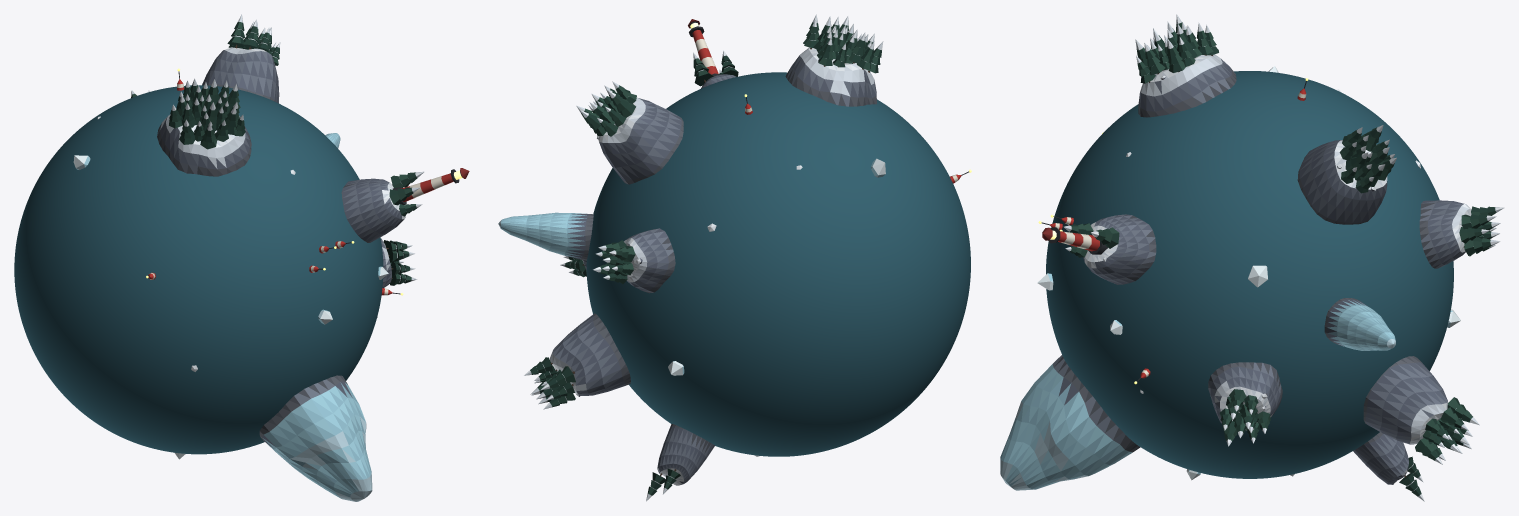
The model's file is snow.glb.
The picture shows the model from 3 angles, left to right: view 1: azimuth 30°, elevation 25°; view 2: azimuth 150°, elevation 25°; view 3: azimuth 270°, elevation 25°; orthographic projection. The views are drawn at different scales.
Visible parts, largest first — view 1: Water, Island_glacier, Island_firwood, Island_beacon, Island_drift, Lighthouse; view 2: Water, Island_drift, Island_ridge, Island_firwood, Island_floe, Island_spire, Island_hollow, Lighthouse; view 3: Water, Island_glacier, Island_ridge, Island_drift, Island_firwood, Island_beacon, Island_frostcap, Island_floe, Island_spire, Island_hollow, Lighthouse.
Part boxes in pixels (bbox=[...]): Water: bbox=[14, 85, 383, 454]; Island_glacier: bbox=[259, 375, 372, 501]; Island_firwood: bbox=[157, 114, 251, 176]; Island_beacon: bbox=[341, 178, 405, 242]; Island_drift: bbox=[202, 47, 279, 103]; Lighthouse: bbox=[393, 168, 469, 204]; Water: bbox=[586, 72, 970, 456]; Island_drift: bbox=[598, 97, 683, 184]; Island_ridge: bbox=[549, 313, 630, 395]; Island_firwood: bbox=[785, 47, 876, 106]; Island_floe: bbox=[498, 212, 593, 260]; Island_spire: bbox=[624, 228, 675, 293]; Island_hollow: bbox=[657, 424, 714, 485]; Lighthouse: bbox=[688, 19, 720, 76]; Water: bbox=[1046, 71, 1453, 478]; Island_glacier: bbox=[1000, 355, 1140, 490]; Island_ridge: bbox=[1363, 356, 1447, 444]; Island_drift: bbox=[1297, 140, 1387, 224]; Island_firwood: bbox=[1138, 54, 1236, 117]; Island_beacon: bbox=[1083, 214, 1156, 284]; Island_frostcap: bbox=[1208, 362, 1282, 430]; Island_floe: bbox=[1324, 298, 1395, 350]; Island_spire: bbox=[1419, 200, 1471, 268]; Island_hollow: bbox=[1353, 432, 1408, 484]; Lighthouse: bbox=[1042, 227, 1107, 254].
Bounding box in the file's own units: 11.61 × 11.98 × 12.36.
